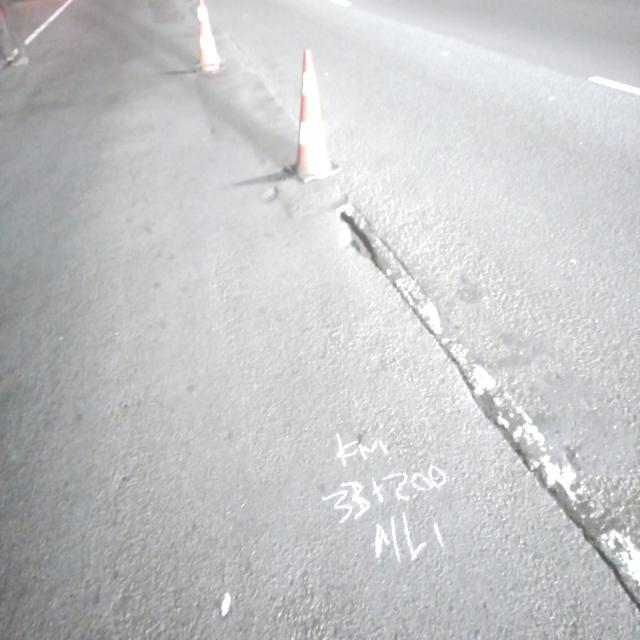Buraco: (329, 200, 406, 289)
